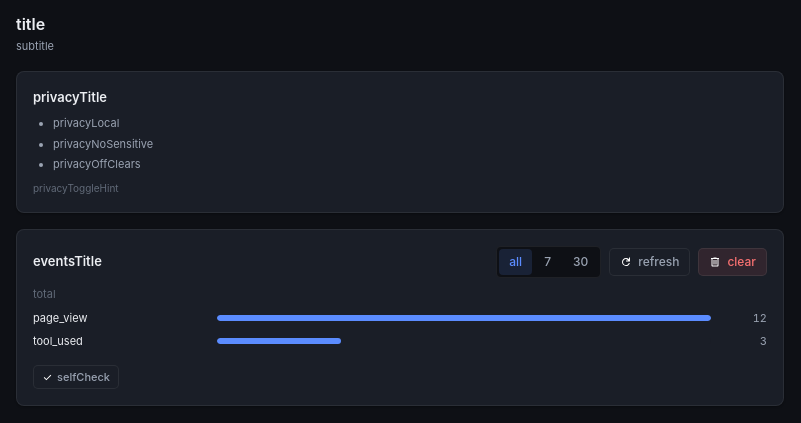
Scenario: UsagePage 自检 › 事件名漂移时报 drift，且不再尝试写入
Expected: the text "total" is shown, x1=33 y1=286 x2=56 y2=300
Click the button "selfCheck": (76, 377) x1=33 y1=365 x2=119 y2=389
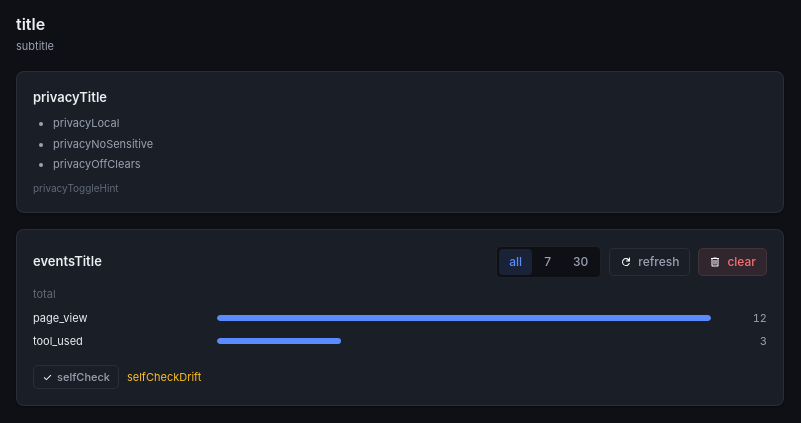
Expected: the text "selfCheckDrift" is shown, x1=127 y1=369 x2=201 y2=385
